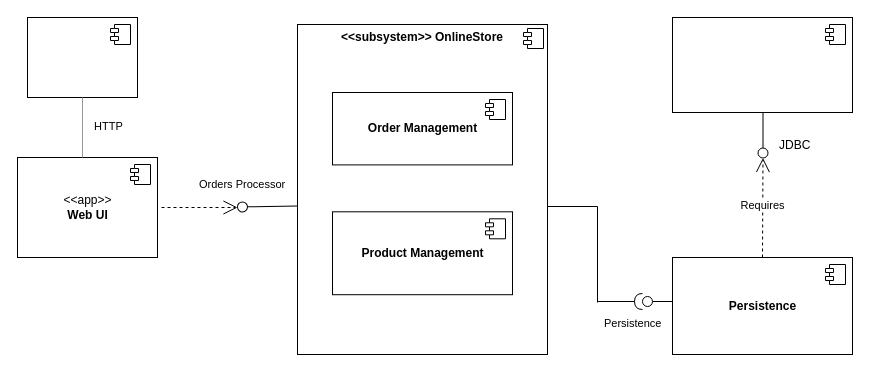
This 870x372 diagram has some shape labels left out. The shapes that lost their labels are listed below. From the top down, each one's centre as x and y in pixels, then its label:
At (82,57): "Web Browser".
At (762,64): "Database".
